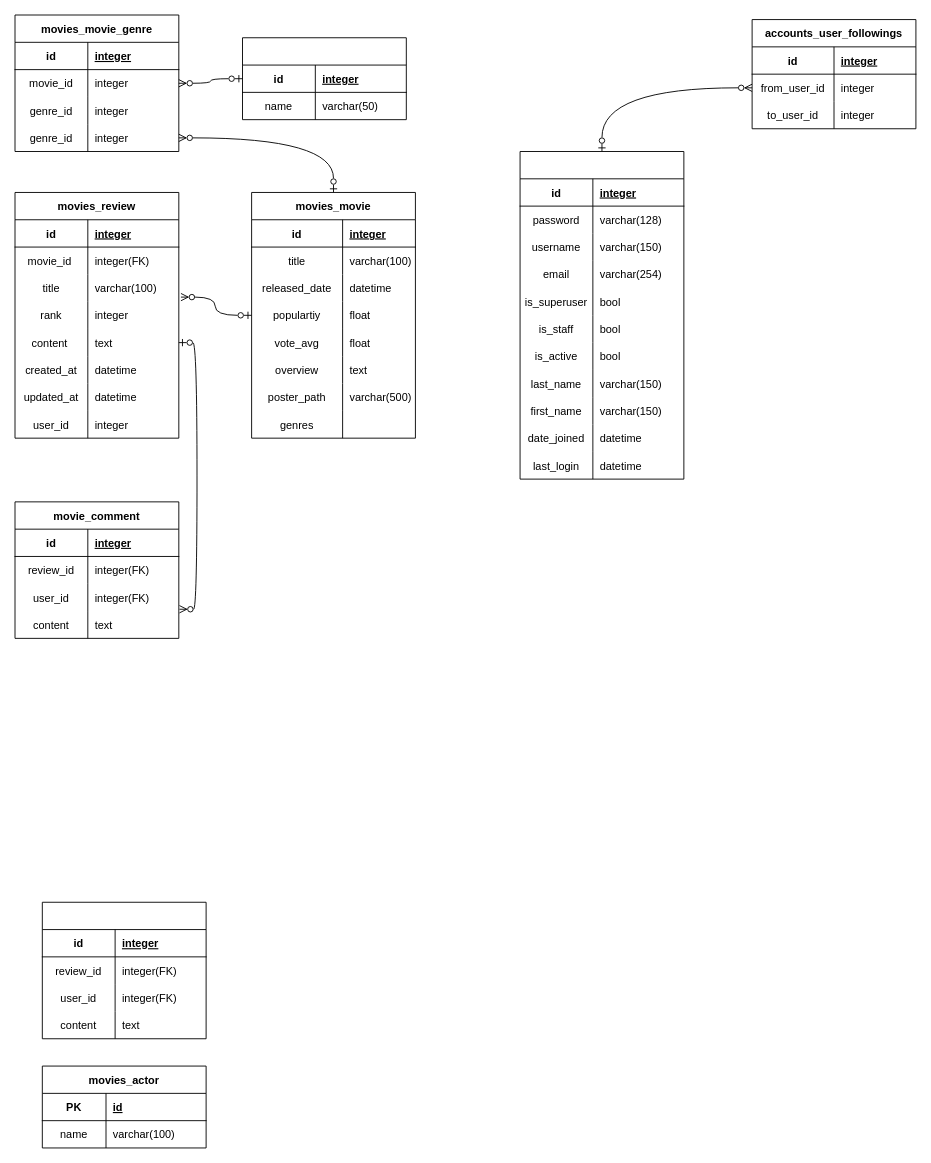
This 931x1163 diagram has some shape labels left out. The box of each missing label's shape, as (x1, y1, x2, y2) in pixels:
accounts_user: (519, 151, 684, 479)
movie_genre: (242, 37, 406, 120)
movies_actor_movies: (41, 901, 206, 1039)
